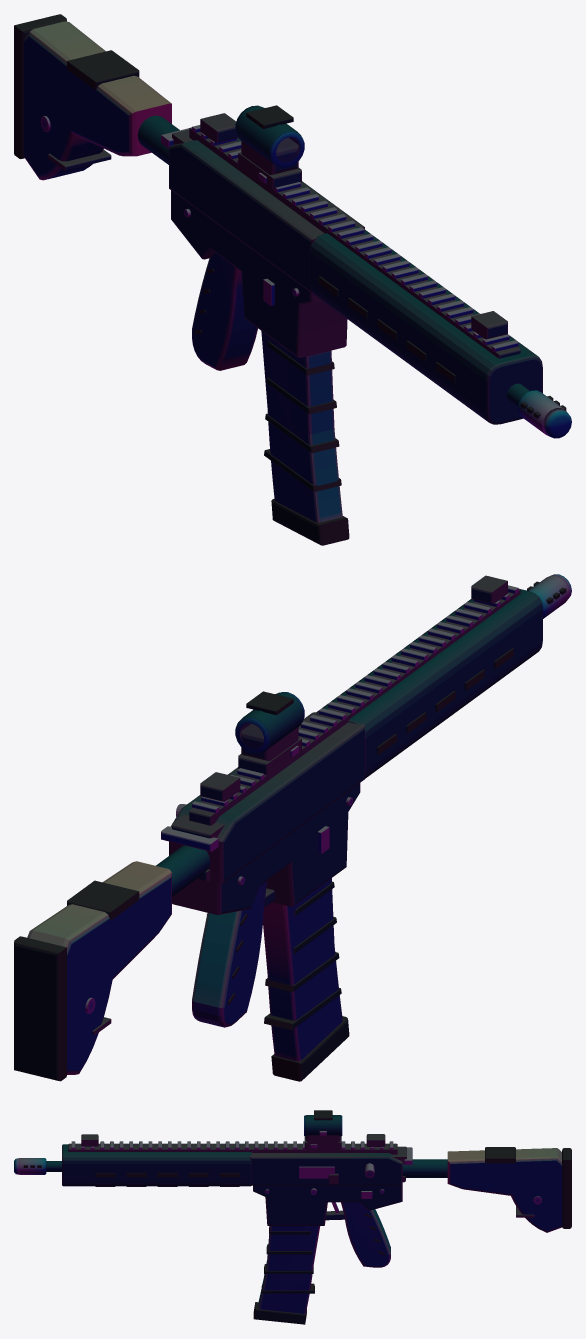
Rendered from service-carbine.glb.
The picture shows the model from 3 angles, top to bottom: view 1: azimuth 30°, elevation 25°; view 2: azimuth 150°, elevation 25°; view 3: azimuth 270°, elevation 25°; orthographic projection. The views are drawn at different scales.
Parts seen in each view (by area): view 1: alloy (×3), polymer (×3), rubber (×4), edge; view 2: alloy (×3), polymer (×3), rubber (×4), edge (×2); view 3: alloy (×3), polymer (×3), rubber (×3), edge.
Part boxes in pixels (box(x1,y1,x2,y2)): alloy (×3): box(48, 105, 542, 424); polymer (×3): box(23, 21, 342, 522); rubber (×4): box(14, 14, 566, 545); edge: box(161, 125, 571, 438); alloy (×3): box(92, 575, 542, 1035); polymer (×3): box(27, 861, 342, 1074); rubber (×4): box(14, 581, 566, 1081); edge (×2): box(161, 574, 571, 884); alloy (×3): box(46, 1115, 534, 1225); polymer (×3): box(258, 1148, 562, 1313); rubber (×3): box(23, 1147, 571, 1324); edge: box(14, 1141, 412, 1212).
Bounding box in the file's own units: 0.0758 × 0.3673 × 0.897.
